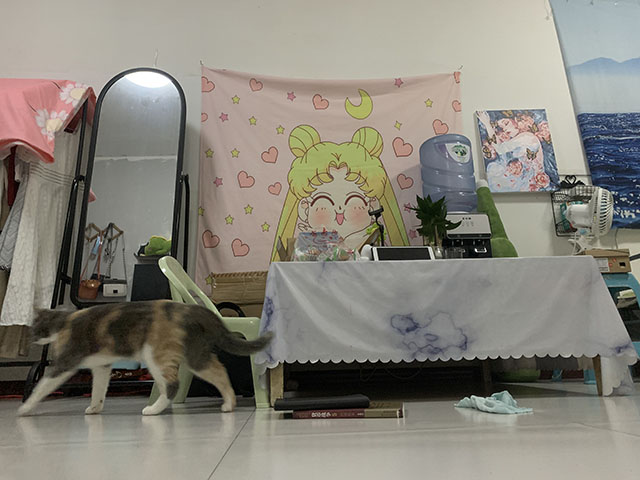book: (274, 393, 406, 420)
socks: (454, 389, 534, 415)
stool: (145, 255, 270, 411)
table: (253, 253, 640, 410)
